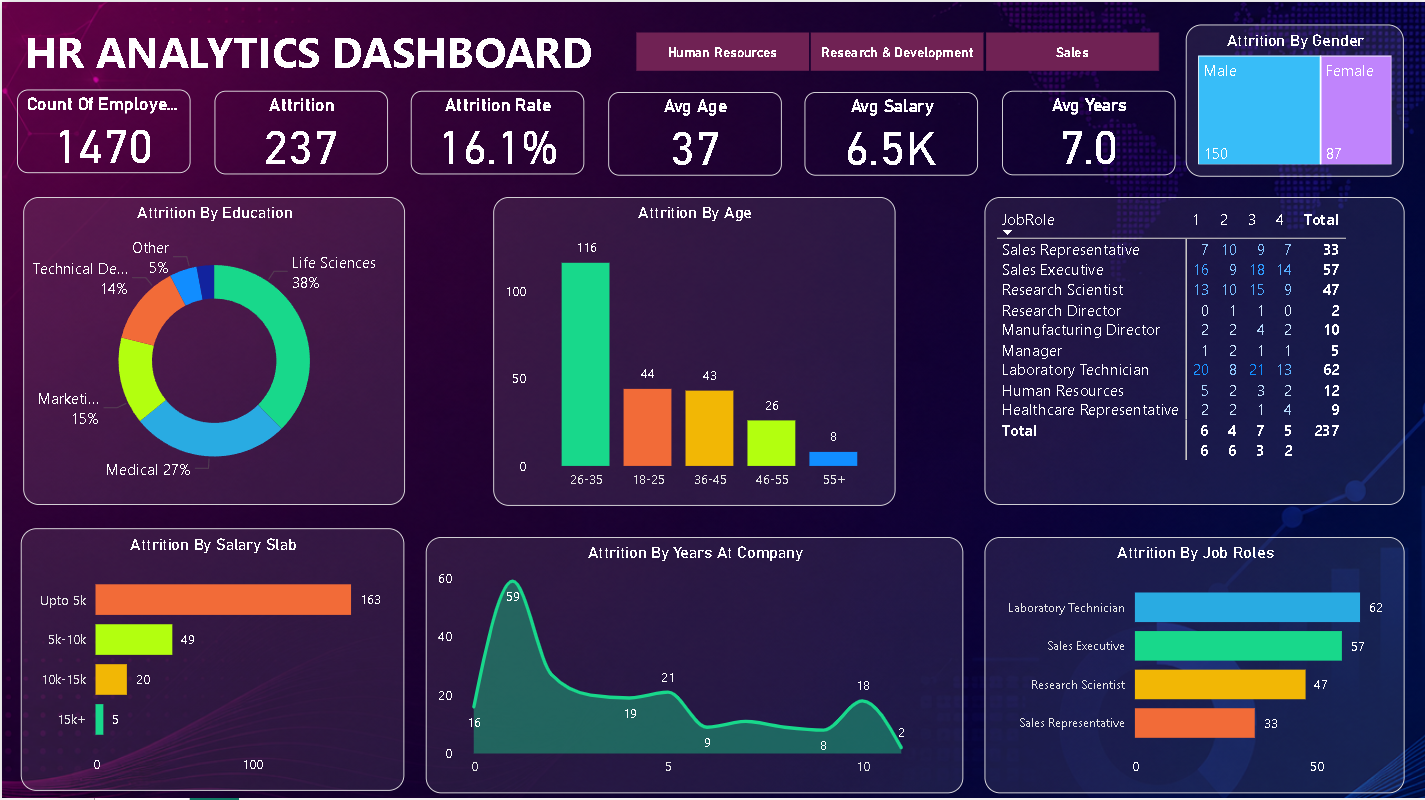

The dashboard page shown, as its layout file describes it:
{"tool":"powerbi","page":{"name":"Page 1","canvas":[1280,720],"ordinal":0},"visuals":[{"type":"card","title":"Count Of Employees","fields":{"Values":["CountNonNull(HR_Analytics.EmpID)"]},"box":[14,79.1,155.8,75.6],"z":0},{"type":"card","title":"Attrition","fields":{"Values":["Sum(HR_Analytics.AttritionCount)"]},"box":[190.8,80.2,155.8,75.6],"z":1000},{"type":"card","title":"Attrition Rate","fields":{"Values":["HR_Analytics.AttritionRate"]},"box":[367.7,80.2,155.8,75.6],"z":2000},{"type":"card","title":"Avg Salary","fields":{"Values":["Avg(HR_Analytics.MonthlyIncome)"]},"box":[721.5,81.4,155.8,75.6],"z":3000},{"type":"card","title":"Avg Years","fields":{"Values":["Avg(HR_Analytics.YearsAtCompany)"]},"box":[898.3,80.1,155.8,75.7],"z":5000},{"type":"card","title":"Avg Age","fields":{"Values":["Avg(HR_Analytics.Age)"]},"box":[544.6,81.4,155.8,75.6],"z":6000},{"type":"donutChart","title":"Attrition By Education","fields":{"Category":["HR_Analytics.EducationField"],"Y":["Sum(HR_Analytics.AttritionCount)"]},"box":[18.9,174.8,342.9,277.2],"z":7000},{"type":"columnChart","title":"Attrition By Age","fields":{"Category":["HR_Analytics.AgeGroup"],"Y":["Sum(HR_Analytics.AttritionCount)"]},"box":[440.7,175.3,361.4,277.4],"z":8000},{"type":"pivotTable","fields":{"Rows":["HR_Analytics.JobRole"],"Columns":["HR_Analytics.JobSatisfaction"],"Values":["Sum(HR_Analytics.AttritionCount)"]},"box":[882.8,174.8,377.4,277.2],"z":9000},{"type":"barChart","title":"Attrition By Salary Slab","fields":{"Category":["HR_Analytics.SalarySlab"],"Y":["Sum(HR_Analytics.AttritionCount)"]},"box":[16.7,473.1,345.1,236],"z":10000},{"type":"barChart","title":"Attrition By Job Roles","fields":{"Category":["HR_Analytics.JobRole"],"Y":["Sum(HR_Analytics.AttritionCount)"]},"box":[898.2,480.3,377,240.2],"z":11000},{"type":"areaChart","title":"Attrition By Years At Company","fields":{"Category":["HR_Analytics.YearsAtCompany"],"Y":["Sum(HR_Analytics.AttritionCount)"]},"box":[380.7,480.9,483.1,230.4],"z":12000},{"type":"treemap","title":"Attrition By Gender","fields":{"Group":["HR_Analytics.Gender"],"Values":["Sum(HR_Analytics.AttritionCount)"]},"box":[1064.2,20,195.9,136.9],"z":13000},{"type":"slicer","fields":{"Values":["HR_Analytics.Department"]},"box":[544.2,19.8,519.8,48.8],"z":14000},{"type":"textbox","box":[16.3,15.1,548.8,59.3],"z":15000}]}

Visuals, with their boxes in screenshot pixels (x1, y1, x2, y2), scaled from the page's 1280x720 canvas onto the 1425x800 screenshot:
"Count Of Employees" card: left=16, top=88, right=189, bottom=172
"Attrition" card: left=212, top=89, right=386, bottom=173
"Attrition Rate" card: left=409, top=89, right=583, bottom=173
"Avg Salary" card: left=803, top=90, right=977, bottom=174
"Avg Years" card: left=1000, top=89, right=1174, bottom=173
"Avg Age" card: left=606, top=90, right=780, bottom=174
"Attrition By Education" donutChart: left=21, top=194, right=403, bottom=502
"Attrition By Age" columnChart: left=491, top=195, right=893, bottom=503
pivotTable - HR_Analytics.JobRole x HR_Analytics.JobSatisfaction: left=983, top=194, right=1403, bottom=502
"Attrition By Salary Slab" barChart: left=19, top=526, right=403, bottom=788
"Attrition By Job Roles" barChart: left=1000, top=534, right=1420, bottom=799
"Attrition By Years At Company" areaChart: left=424, top=534, right=962, bottom=790
"Attrition By Gender" treemap: left=1185, top=22, right=1403, bottom=174
slicer - HR_Analytics.Department: left=606, top=22, right=1185, bottom=76
textbox: left=18, top=17, right=629, bottom=83
